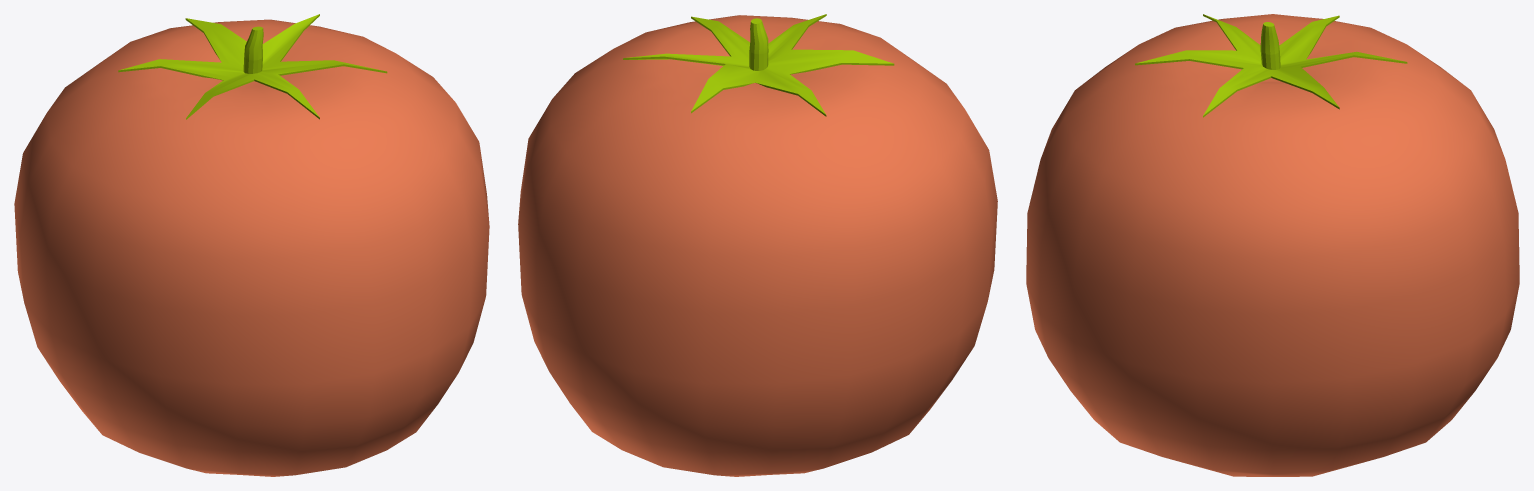
The model's file is Tomate.fbx.
3 renders of one model, left to right at view 1: azimuth 30°, elevation 25°; view 2: azimuth 150°, elevation 25°; view 3: azimuth 270°, elevation 25°, orthographic.
Visible parts, largest first — view 1: Tomate_MESH, Matinho_MESH.001; view 2: Tomate_MESH, Matinho_MESH.001; view 3: Tomate_MESH, Matinho_MESH.001.
Part boxes in pixels (x1,y1,x2,y2): Tomate_MESH: [14, 19, 489, 476]; Matinho_MESH.001: [118, 14, 387, 119]; Tomate_MESH: [518, 15, 997, 476]; Matinho_MESH.001: [623, 14, 894, 116]; Tomate_MESH: [1026, 14, 1519, 476]; Matinho_MESH.001: [1135, 14, 1407, 117].
Bounding box in the file's own units: 9.99 × 9.61 × 10.18.
